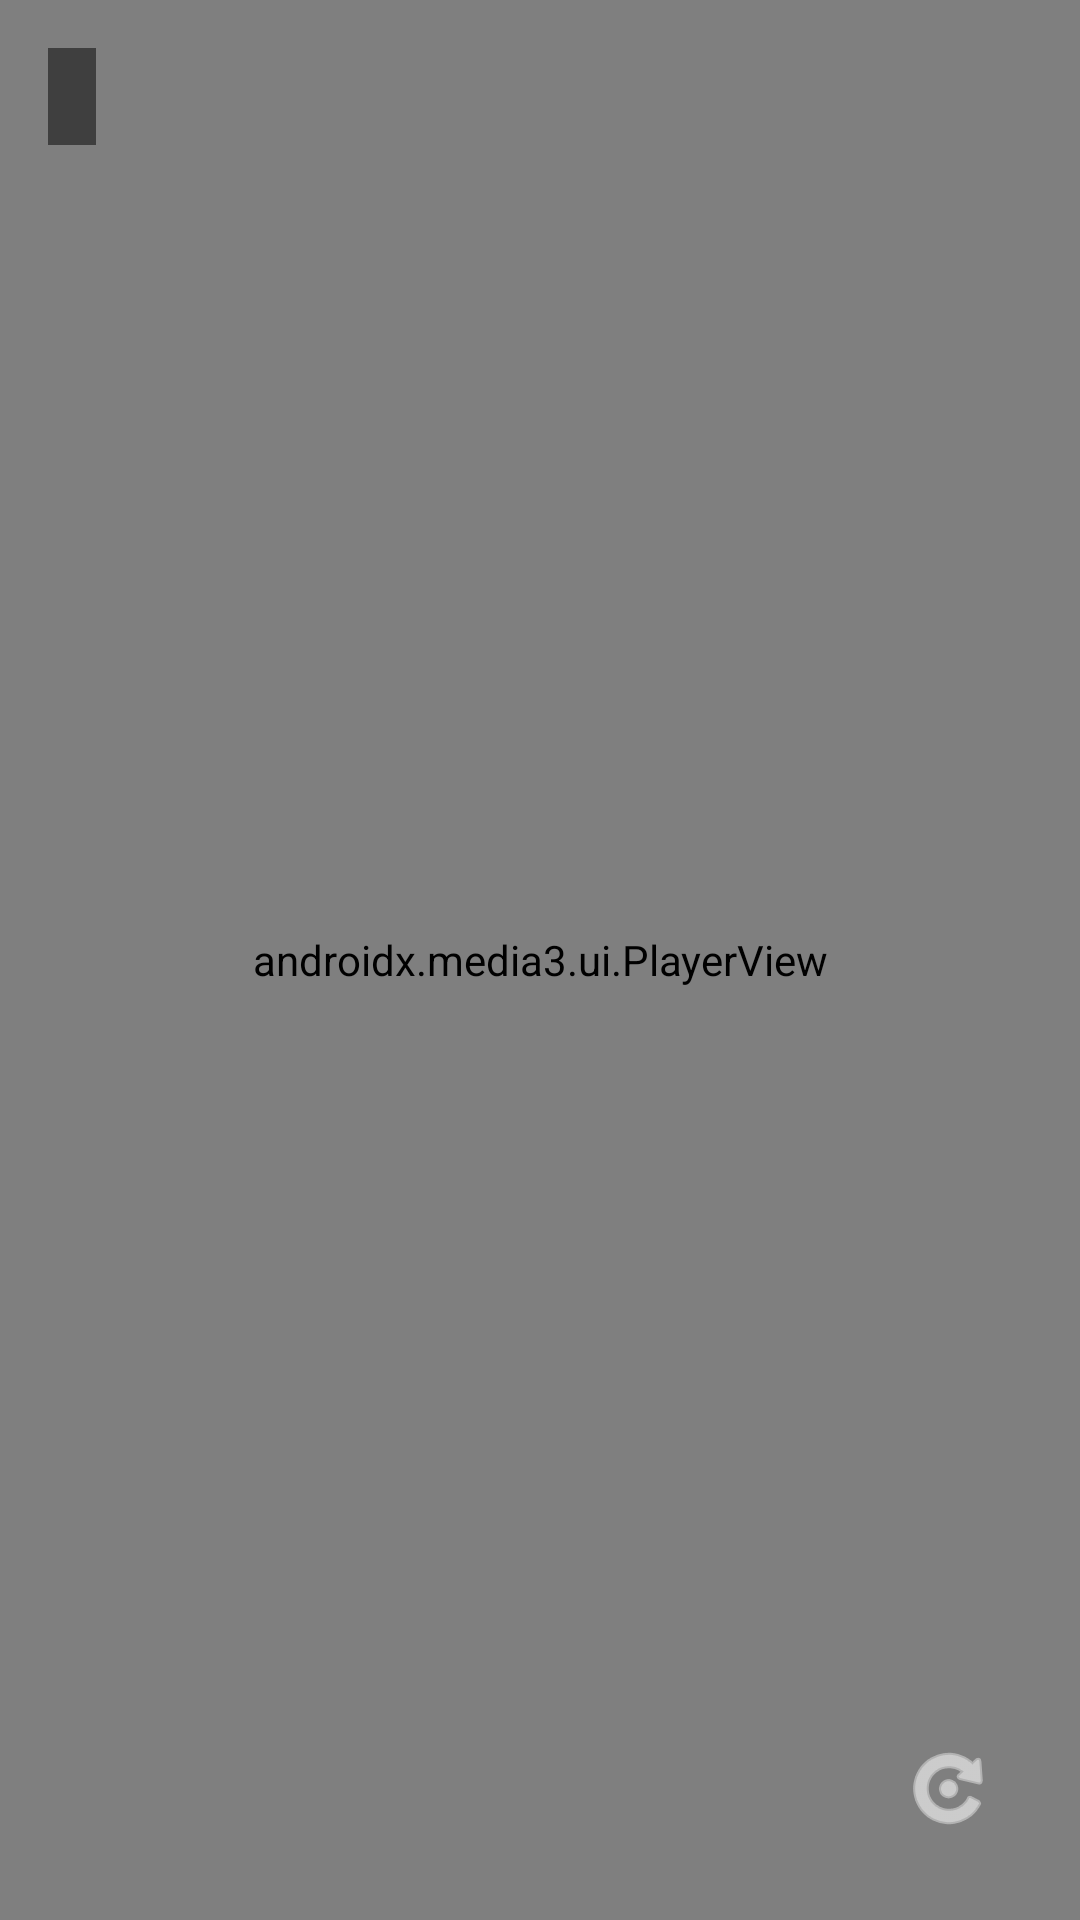

Screen size 1080px x 1920px. Icon name, then its center in pixels as [x,y]:
rotate: [948,1788]
